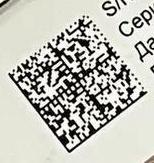datamatrix: (9, 15, 149, 154)
